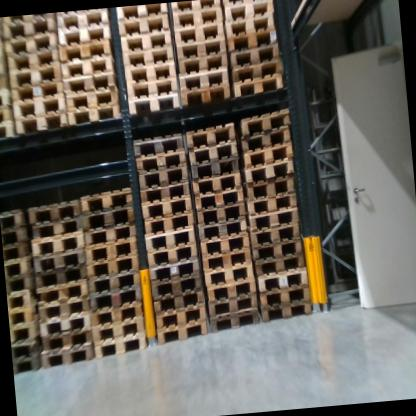pallet: (91, 316, 211, 362), (27, 229, 91, 261), (239, 106, 299, 140), (80, 236, 140, 270), (24, 194, 83, 228), (88, 282, 144, 316), (80, 184, 138, 216), (89, 314, 146, 346), (81, 222, 143, 251), (38, 341, 102, 369), (200, 262, 259, 292), (82, 204, 141, 234), (37, 322, 98, 351), (230, 67, 287, 98), (144, 223, 199, 254), (227, 38, 283, 68), (198, 230, 253, 260), (142, 191, 197, 221), (31, 263, 92, 290), (55, 21, 116, 48), (8, 61, 62, 91), (148, 256, 203, 285), (67, 101, 122, 130), (222, 10, 277, 39), (136, 164, 192, 192), (37, 293, 93, 321), (243, 172, 301, 199), (193, 199, 247, 228), (150, 270, 208, 297), (90, 301, 148, 328), (204, 292, 264, 318), (34, 278, 94, 304), (238, 126, 295, 153), (31, 248, 88, 275), (133, 132, 186, 161), (255, 283, 314, 309), (84, 256, 143, 282), (58, 55, 117, 81), (241, 141, 297, 168), (247, 220, 303, 247), (141, 207, 196, 234), (88, 270, 143, 297), (175, 52, 230, 79), (246, 205, 303, 231), (144, 241, 201, 267), (196, 218, 250, 245), (133, 148, 189, 174), (152, 287, 208, 313), (124, 90, 180, 116), (178, 84, 234, 110), (225, 26, 281, 52), (58, 40, 116, 65), (63, 86, 123, 110), (261, 300, 316, 326), (192, 186, 247, 212), (200, 280, 262, 303), (244, 190, 301, 215), (250, 247, 307, 272), (27, 215, 84, 240), (37, 312, 94, 337), (189, 156, 243, 182), (186, 123, 240, 149), (255, 264, 311, 289), (119, 44, 177, 68), (123, 77, 181, 101), (191, 170, 246, 195), (62, 71, 121, 94), (187, 141, 239, 167), (202, 249, 256, 274), (249, 236, 305, 260), (13, 111, 69, 135), (207, 309, 262, 333), (3, 18, 58, 42), (242, 155, 296, 179), (122, 59, 176, 83), (231, 56, 285, 80), (154, 301, 207, 325), (10, 78, 63, 102), (16, 92, 66, 117), (139, 181, 193, 204), (6, 46, 60, 69), (179, 66, 232, 89), (172, 21, 225, 44), (115, 13, 173, 34), (9, 33, 58, 56), (172, 6, 225, 27), (57, 9, 112, 29), (122, 29, 174, 50), (225, 1, 274, 21), (174, 39, 228, 57), (12, 335, 45, 360), (10, 301, 43, 325), (8, 289, 39, 314), (117, 4, 171, 18), (2, 224, 33, 248), (6, 270, 36, 294), (10, 322, 40, 345), (4, 239, 33, 262), (3, 13, 56, 25), (4, 257, 33, 278), (13, 357, 42, 377), (171, 0, 223, 11), (1, 208, 26, 230), (0, 121, 18, 143), (223, 0, 275, 7), (0, 105, 16, 125), (0, 90, 13, 110), (0, 58, 10, 78), (0, 73, 8, 95), (0, 46, 8, 63), (0, 30, 5, 48)
